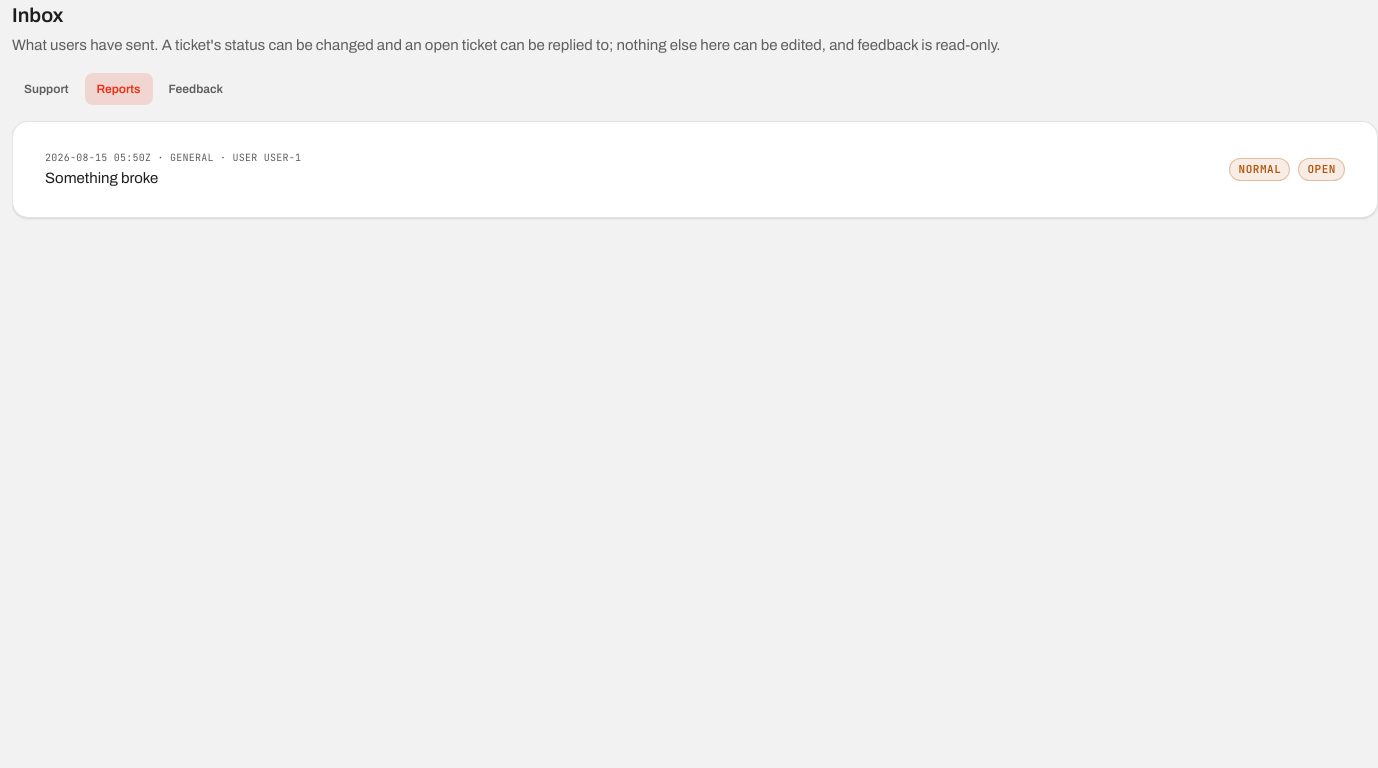
AdminInboxPanel — reply › never invents a message before the server confirms one
Step 1. Click the button "Something broke" → (98, 157), box x1=29 y1=138 x2=1361 y2=201
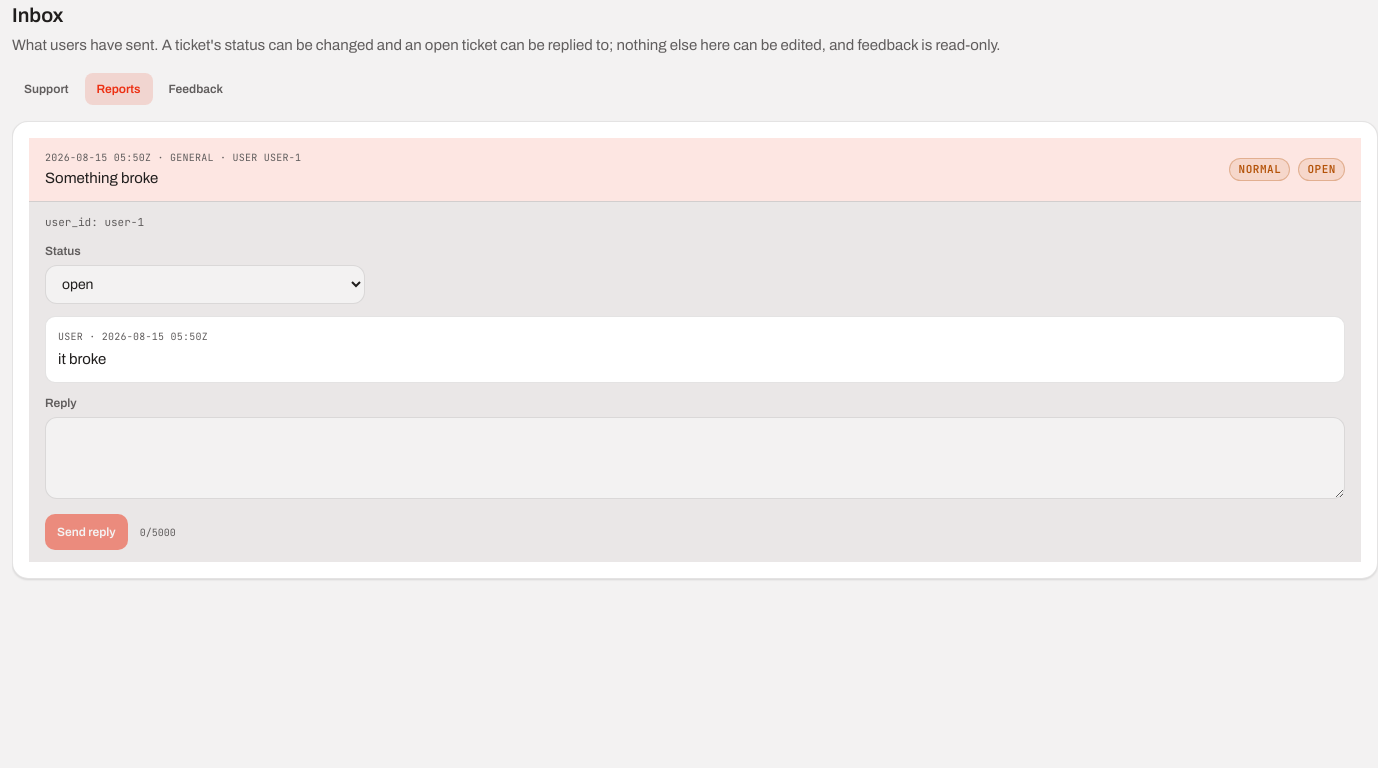
Step 2. Type "pending reply" into the text box → (695, 458), box x1=45 y1=417 x2=1345 y2=499
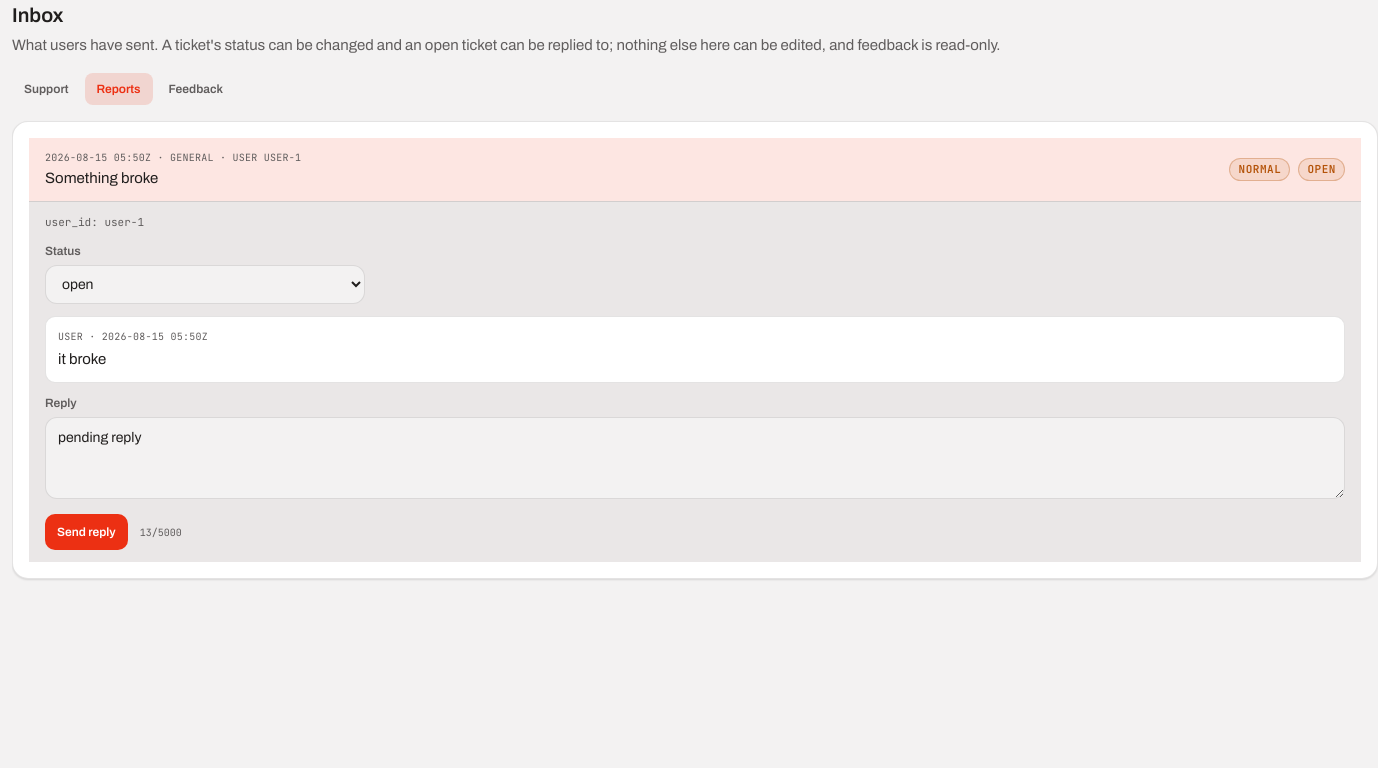
Step 3. Click the button "Send reply" → (86, 532), box x1=45 y1=514 x2=128 y2=550
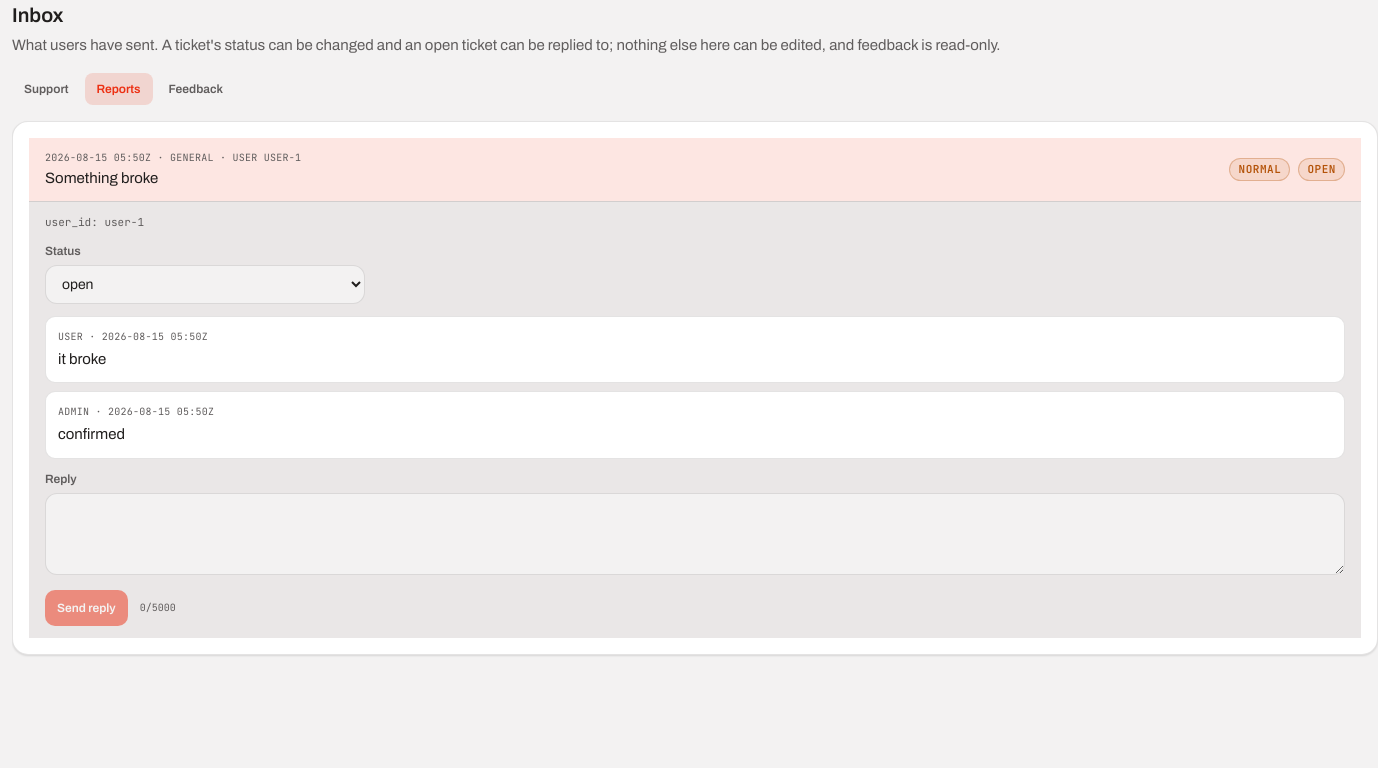
expect the button named "Sending" is disabled: met, box x1=45 y1=590 x2=128 y2=626
expect the text "confirmed" is shown: met, box x1=58 y1=426 x2=125 y2=442
